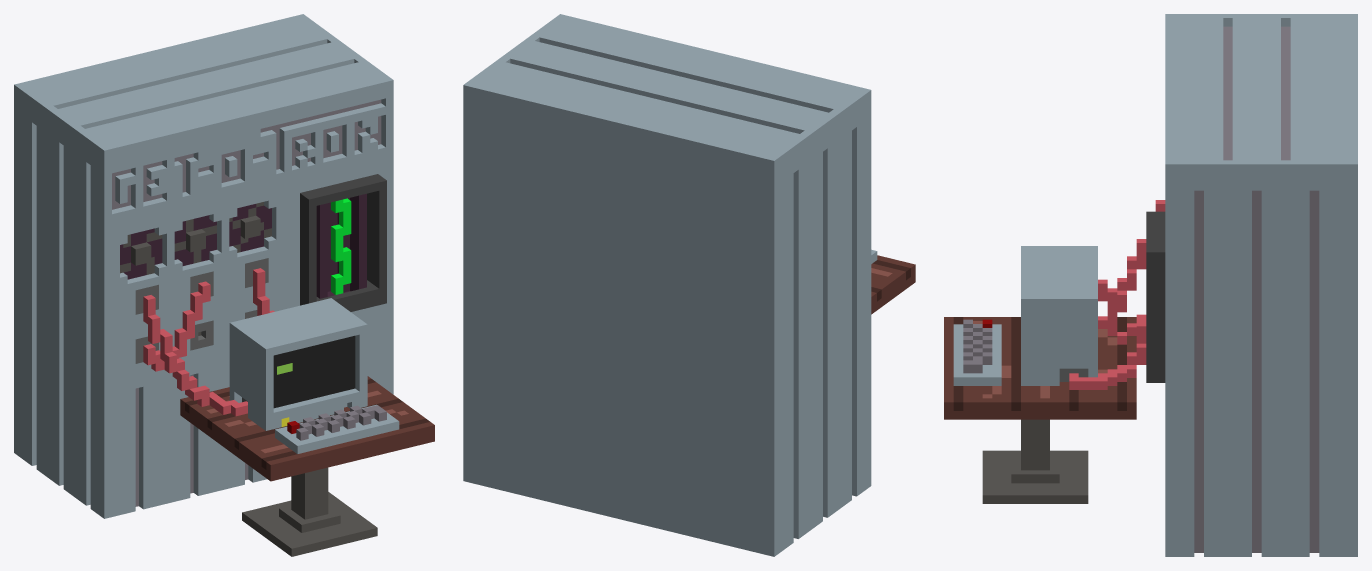
Rendered from Terminal.1.dae.
The picture shows the model from 3 angles, left to right: view 1: azimuth 30°, elevation 25°; view 2: azimuth 150°, elevation 25°; view 3: azimuth 270°, elevation 25°; orthographic projection. The views are drawn at different scales.
Parts seen in each view (by area): view 1: Terminal1; view 2: Terminal1; view 3: Terminal1.
Boxes of the visible parts, bbox=[...] form: Terminal1: bbox=[14, 14, 434, 556]; Terminal1: bbox=[463, 14, 915, 556]; Terminal1: bbox=[944, 14, 1357, 556].
Size of the model in its own units: 37 by 43 by 45.
1 material, 1 textured.
